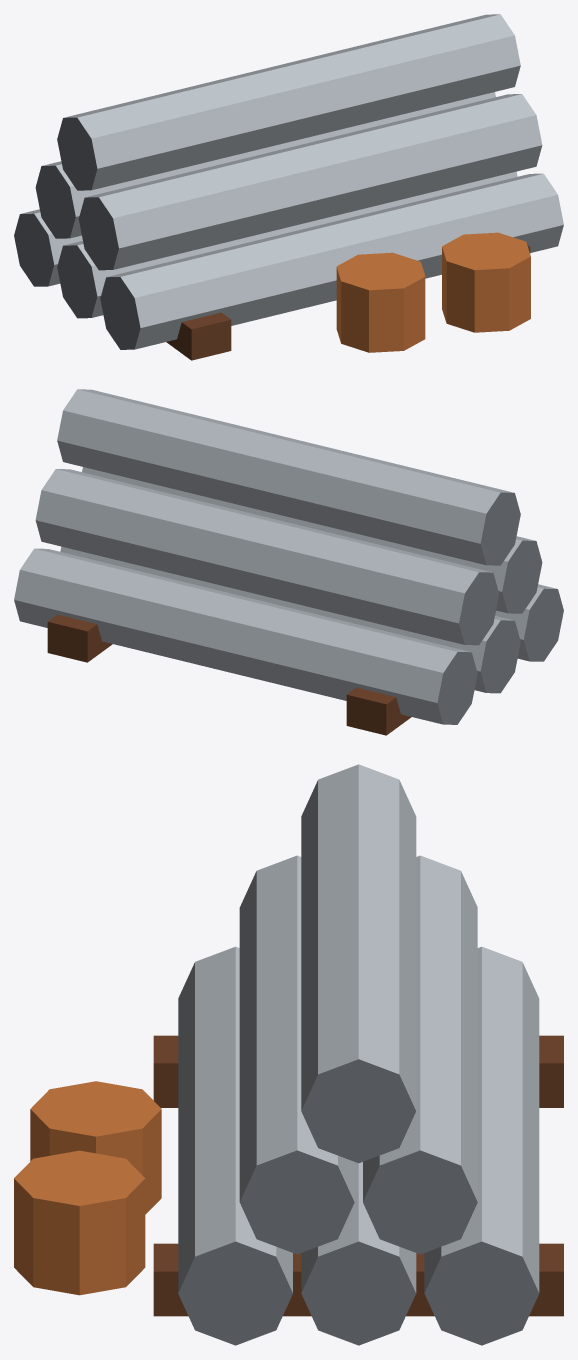
File: a-pipe-stack.glb
3 renders of one model, top to bottom at view 1: azimuth 30°, elevation 25°; view 2: azimuth 150°, elevation 25°; view 3: azimuth 270°, elevation 25°, orthographic. The views are drawn at different scales.
Visible parts, largest first — view 1: a-pipe-stack; view 2: a-pipe-stack; view 3: a-pipe-stack.
Boxes of the visible parts, x1,y1,x2,y2 form: a-pipe-stack: (14, 14, 563, 360); a-pipe-stack: (14, 389, 563, 735); a-pipe-stack: (14, 764, 563, 1345).
Bounding box in the file's own units: 0.85 × 0.385 × 0.67.
